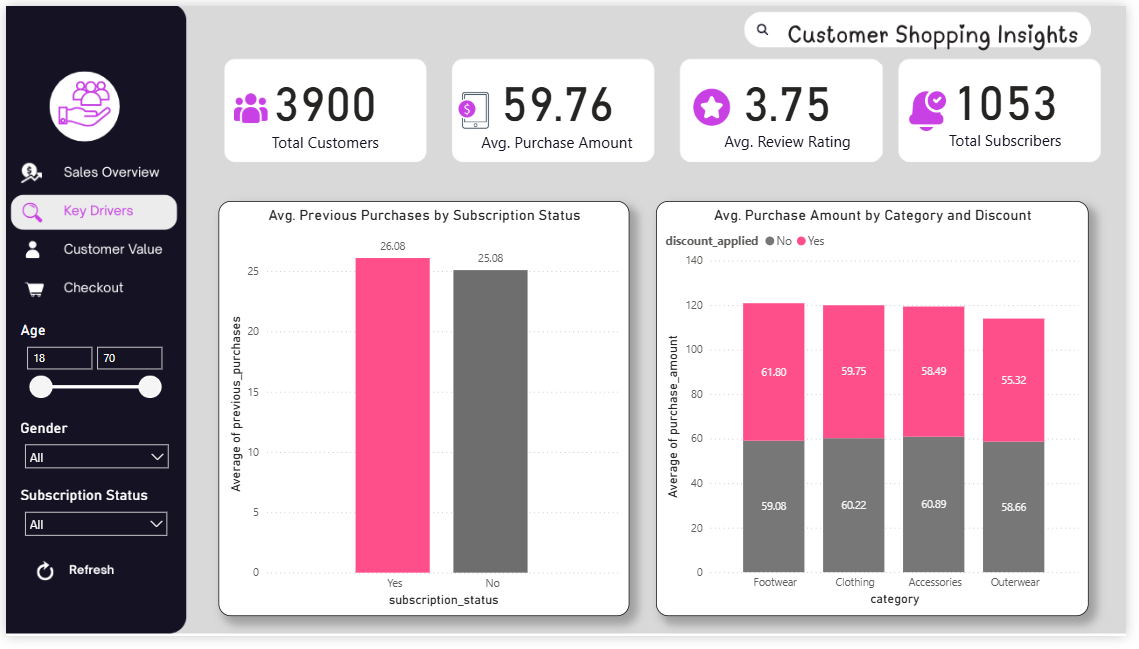

What the dashboard file says about the page in this screenshot:
{"tool":"powerbi","page":{"name":"Key Drivers","canvas":[1280,720],"ordinal":1},"visuals":[{"type":"columnChart","title":"Avg. Previous Purchases by Subscription Status","fields":{"Category":["customer_behavior.subscription_status"],"Y":["Avg(customer_behavior.previous_purchases)"]},"box":[243.4,222.3,469.4,474.4],"z":0},{"type":"columnChart","title":"Avg. Purchase Amount by Category and Discount","fields":{"Category":["customer_behavior.category"],"Y":["Avg(customer_behavior.purchase_amount)"],"Series":["customer_behavior.discount_applied"]},"box":[742.6,222.3,494.2,474.4],"z":1000},{"type":"slicer","title":"Age","fields":{"Values":["customer_behavior.age"]},"box":[11,359.5,174.2,90.8],"z":2000},{"type":"slicer","title":"Gender","fields":{"Values":["customer_behavior.gender"]},"box":[11,471.2,184.1,62.6],"z":3000},{"type":"slicer","title":"Subscription Status","fields":{"Values":["customer_behavior.subscription_status"]},"box":[11,548.5,182.8,63.8],"z":4000},{"type":"card","fields":{"Values":["Avg(customer_behavior.purchase_amount)"]},"box":[521.5,66.3,217.2,108],"z":5000},{"type":"card","fields":{"Values":["Avg(customer_behavior.review_rating)"]},"box":[785.3,66.3,216,106.7],"z":6000},{"type":"card","title":"Total Customers","fields":{"Values":["CountNonNull(customer_behavior.customer_id)"]},"box":[258.9,66.3,213.5,108],"z":7000},{"type":"card","fields":{"Values":["CountNonNull(customer_behavior.customer_id)"]},"box":[1040.5,63.8,204.9,106.7],"z":8000},{"type":"image","box":[249.1,93.3,62.6,47.9],"z":9000},{"type":"image","box":[503.1,93.3,61.4,52.8],"z":10000},{"type":"image","box":[775.5,85.9,61.4,60.1],"z":11000},{"type":"image","box":[1020.9,90.8,61.4,57.7],"z":12000}]}

Visuals, with their boxes in screenshot pixels (x1, y1, x2, y2), scaled from the page's 1280x720 canvas onto the 1139x649 screenshot:
"Avg. Previous Purchases by Subscription Status" columnChart: [left=217, top=200, right=634, bottom=628]
"Avg. Purchase Amount by Category and Discount" columnChart: [left=661, top=200, right=1101, bottom=628]
"Age" slicer: [left=10, top=324, right=165, bottom=406]
"Gender" slicer: [left=10, top=425, right=174, bottom=481]
"Subscription Status" slicer: [left=10, top=494, right=172, bottom=552]
card - Avg(customer_behavior.purchase_amount): [left=464, top=60, right=657, bottom=157]
card - Avg(customer_behavior.review_rating): [left=699, top=60, right=891, bottom=156]
"Total Customers" card: [left=230, top=60, right=420, bottom=157]
card - CountNonNull(customer_behavior.customer_id): [left=926, top=58, right=1108, bottom=154]
image: [left=222, top=84, right=277, bottom=127]
image: [left=448, top=84, right=502, bottom=132]
image: [left=690, top=77, right=745, bottom=132]
image: [left=908, top=82, right=963, bottom=134]
